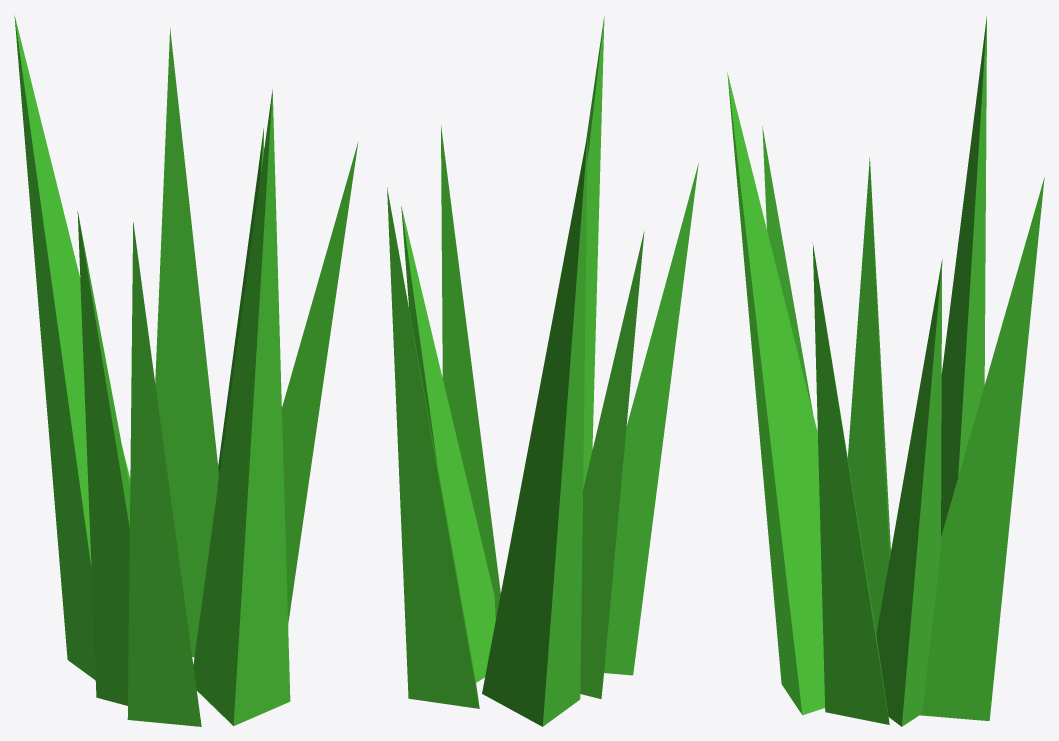
The model's file is Grass.lend.fbx.
The picture shows the model from 3 angles, left to right: view 1: azimuth 30°, elevation 25°; view 2: azimuth 150°, elevation 25°; view 3: azimuth 270°, elevation 25°; orthographic projection. The views are drawn at different scales.
Visible parts, largest first — view 1: Cube.004, Cube.001, Cube.002, Cube.006, Cube, Cube.003, Cube.005; view 2: Cube.001, Cube.002, Cube.006, Cube, Cube.005, Cube.003, Cube.004; view 3: Cube.002, Cube.004, Cube.005, Cube.003, Cube.001, Cube, Cube.006.
Part boxes in pixels (box(x1,y1,x2,y2)): Cube.004: box(193, 89, 290, 726); Cube.001: box(14, 14, 130, 680); Cube.002: box(155, 28, 218, 657); Cube.006: box(127, 222, 201, 726); Cube: box(77, 211, 130, 705); Cube.003: box(282, 142, 358, 624); Cube.005: box(217, 128, 264, 489); Cube.001: box(482, 134, 587, 726); Cube.002: box(387, 187, 479, 708); Cube.006: box(604, 163, 698, 675); Cube: box(580, 231, 644, 698); Cube.005: box(401, 206, 495, 682); Cube.003: box(441, 126, 500, 619); Cube.004: box(583, 14, 604, 489); Cube.002: box(920, 177, 1044, 721); Cube.004: box(727, 72, 824, 715); Cube.005: box(876, 259, 942, 726); Cube.003: box(812, 242, 889, 724); Cube.001: box(941, 16, 986, 536); Cube: box(847, 157, 890, 633); Cube.006: box(762, 126, 812, 412).
Size of the model in its own units: 55.16 by 138 by 63.95.
